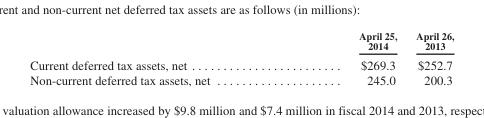table: (29, 29, 453, 86)
table column: (29, 29, 283, 86), (283, 29, 405, 86), (405, 29, 453, 86)
table column header: (29, 29, 453, 54)
table row: (29, 29, 453, 54), (29, 54, 453, 72), (29, 72, 453, 86)
